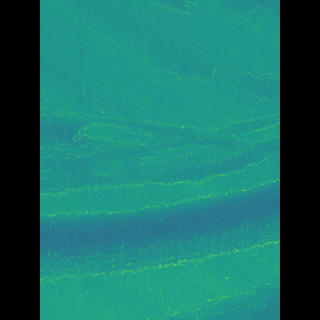Loch: (68, 180, 249, 287), (67, 103, 249, 198), (158, 284, 250, 319)
